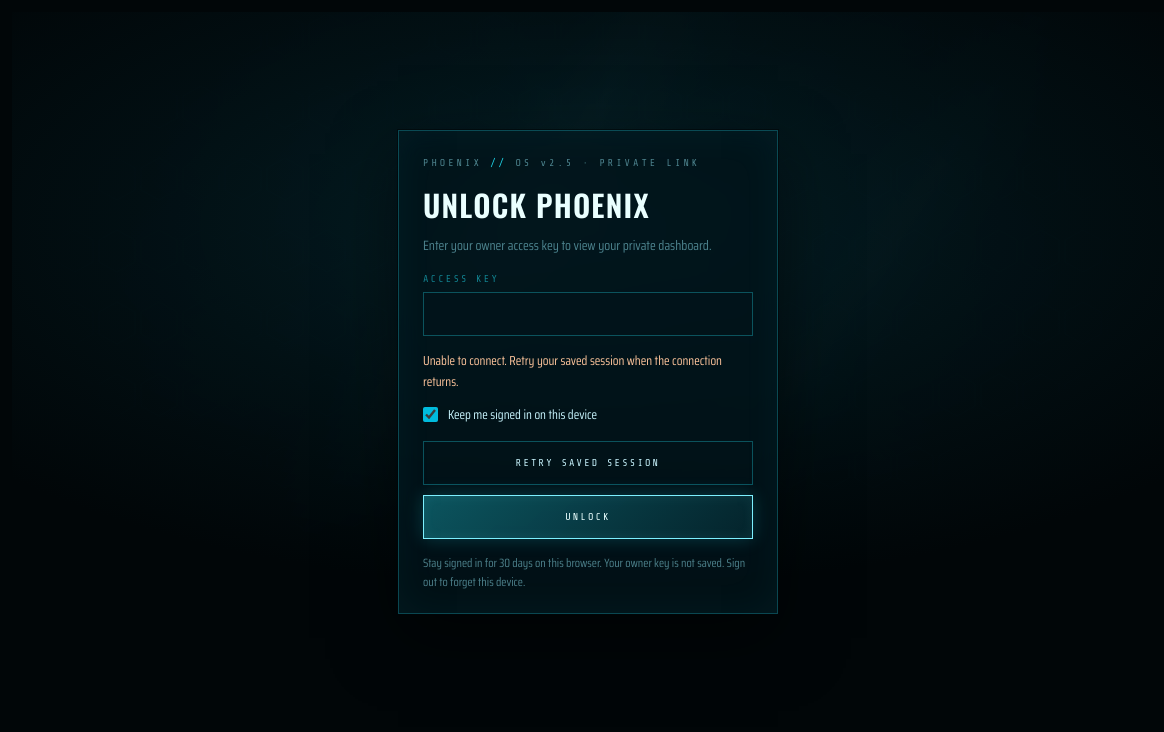
Test: temporary restore failure retains session and allows retry without owner key
Expected: the message "Unable to connect. Retry your saved session when the connection returns." is shown, [423,350,753,392]
Expected: the text "Synthetic private screen" is not shown
Click the button "Retry saved session" at {"x": 588, "y": 463}, box [423,441,753,485]
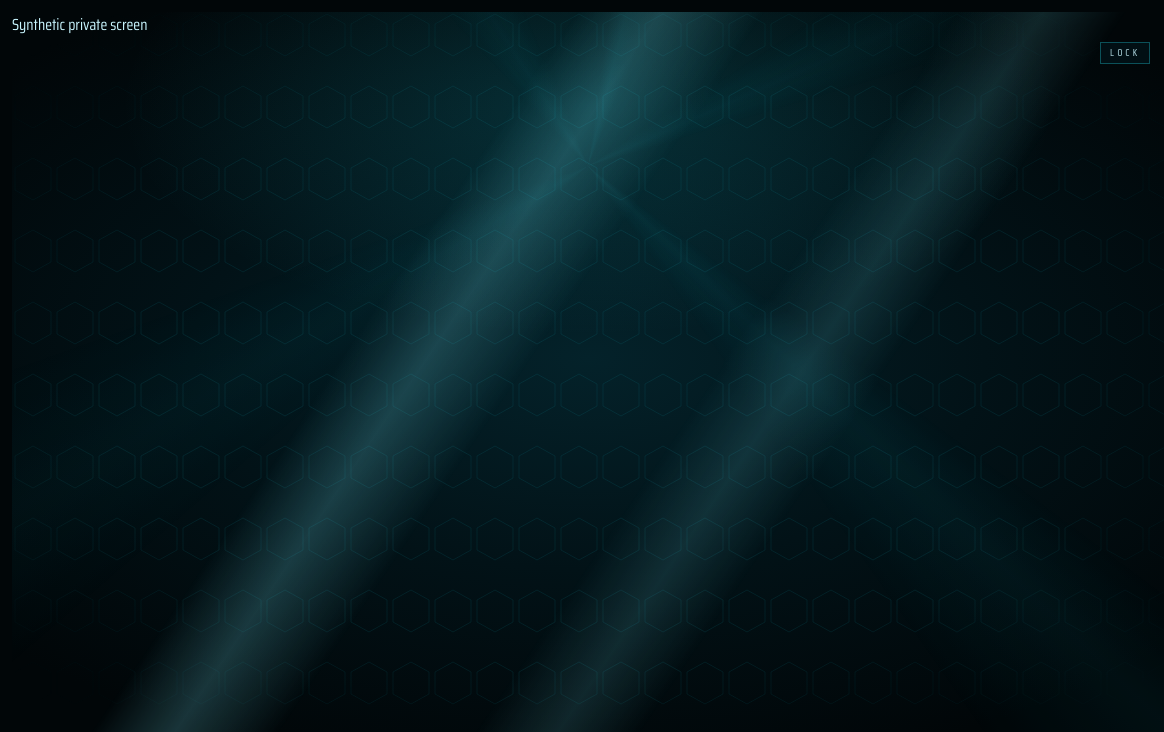
Expected: the text "Synthetic private screen" is shown, [12,12,147,37]
